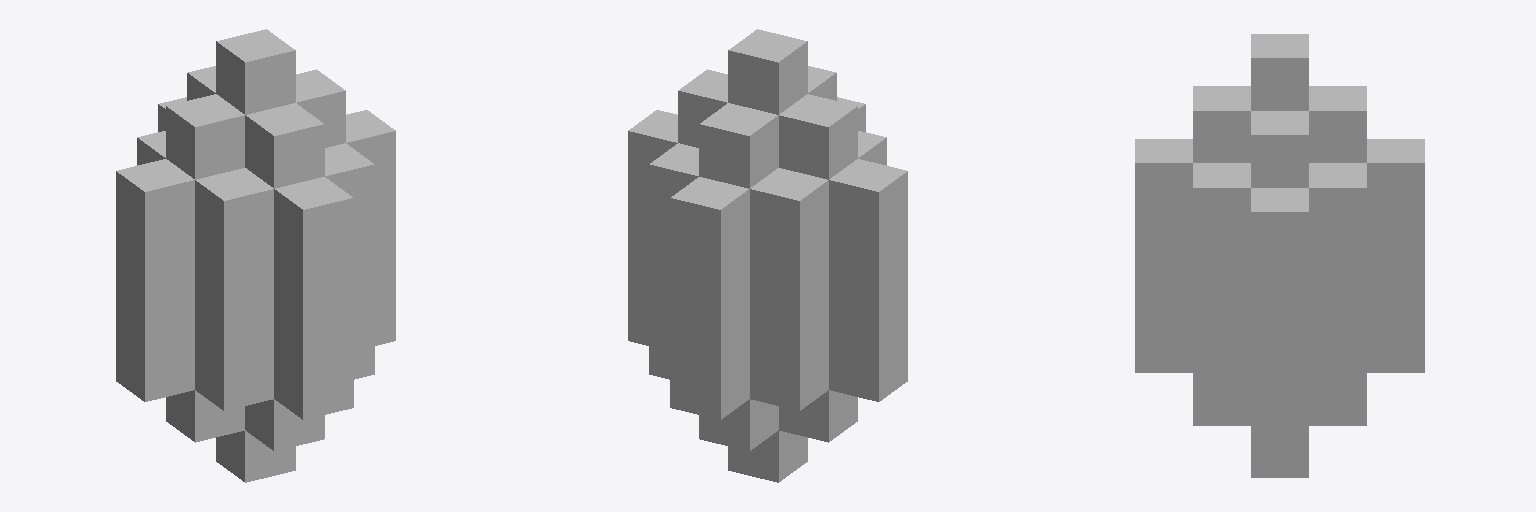
File: Diamond.obj
The picture shows the model from 3 angles: view 1: azimuth 30°, elevation 25°; view 2: azimuth 150°, elevation 25°; view 3: azimuth 270°, elevation 25°; orthographic projection.
Size of the model in its own units: 10 by 16 by 10.